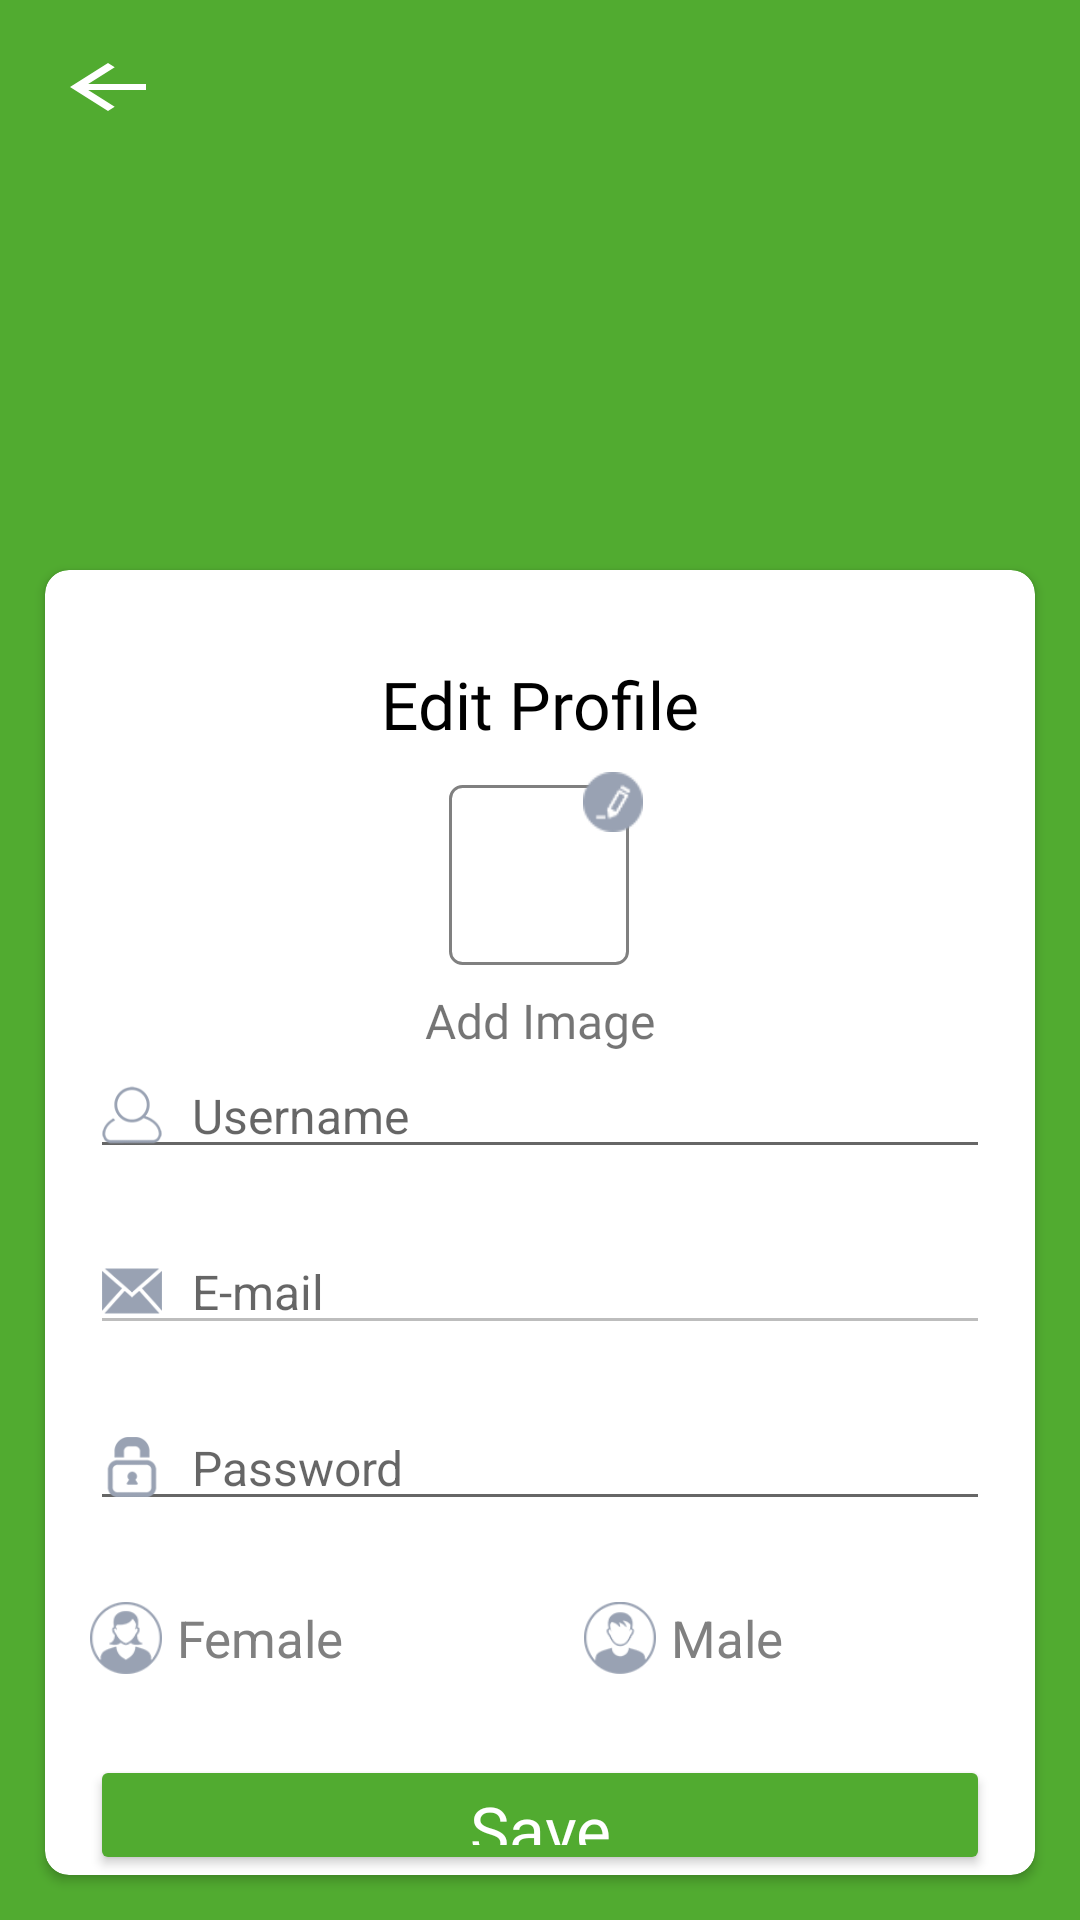

Point at icon controls on the screen. Image size 1080px x 1920px, points as (x,y).
back arrow: (108,87)
